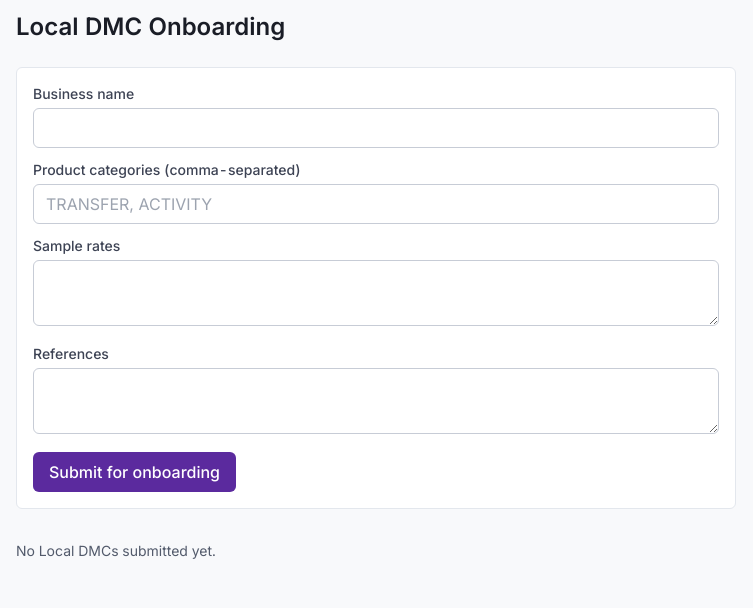
Test: LocalDmcOnboarding › submission error state: shows an inline error and keeps the form filled in
This screenshot has width=753, height=608.
Check: the text "No Local DMCs submitted yet." is shown, box [16,542,216,559]
Type "Goa Local Tours" into the field labelled "Business name" at x=376, y=128, box [33,108,719,148]
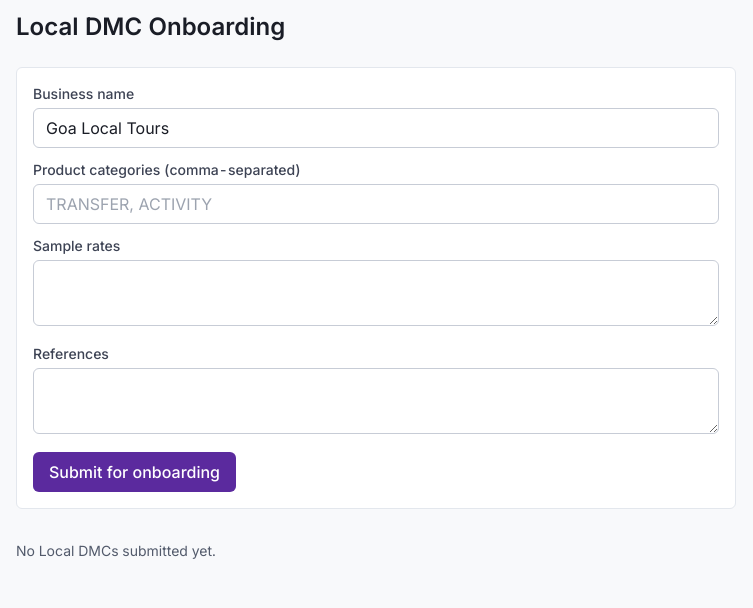
Type "TRANSFER" into the field labelled "Product categories (comma-separated)" at x=376, y=204, box [33,184,719,224]
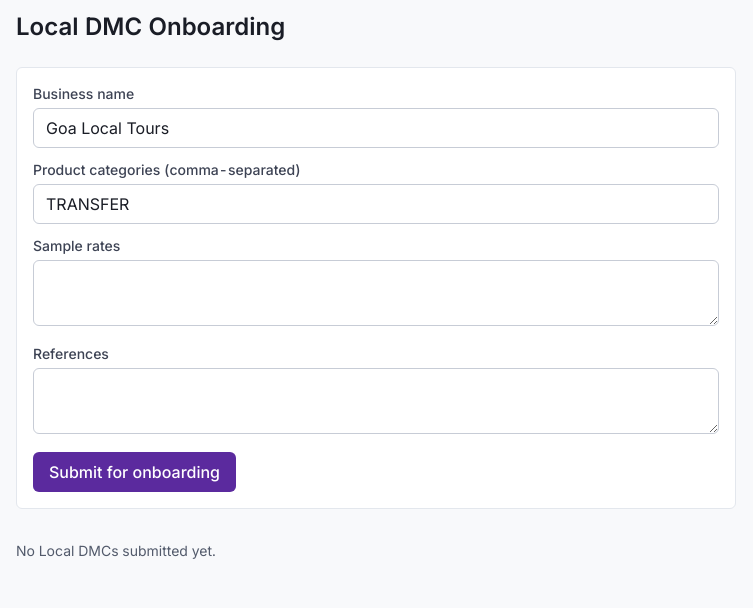
Click the button "Submit for onboarding" at x=134, y=472, box [33,452,236,492]
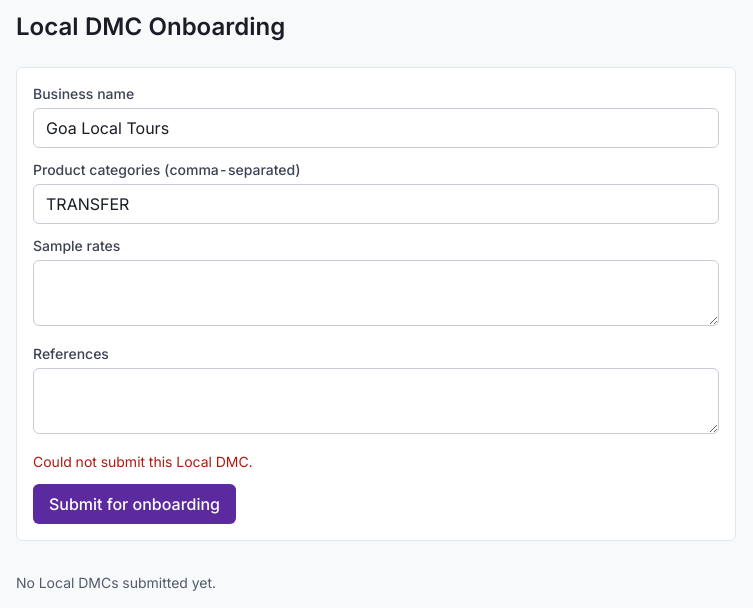
Check: the message shows "Could not submit this Local DMC", box [33,453,252,470]
